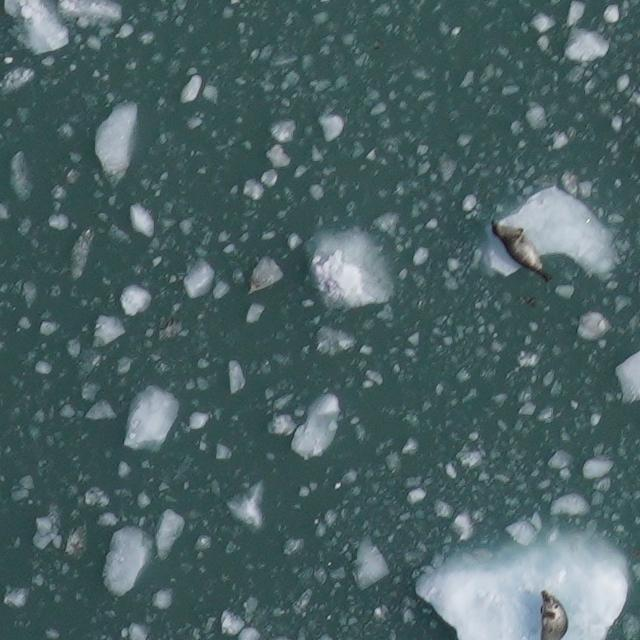seal: (488, 217, 553, 285), (534, 584, 571, 639)
